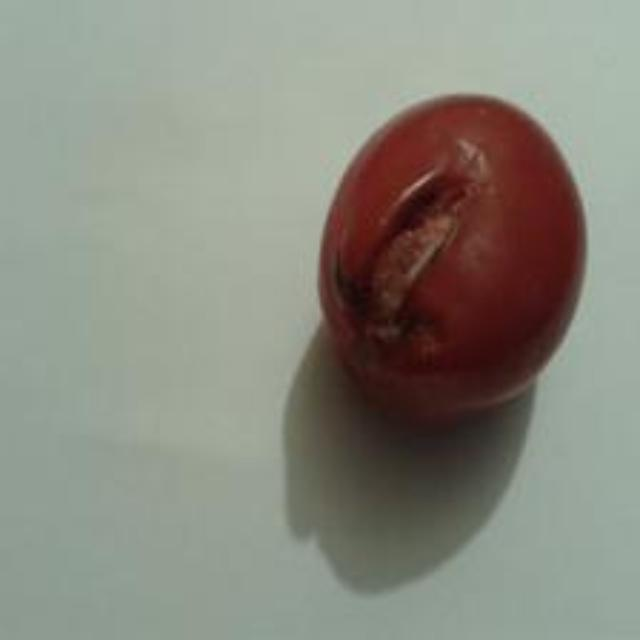defect: (312, 86, 589, 419)
